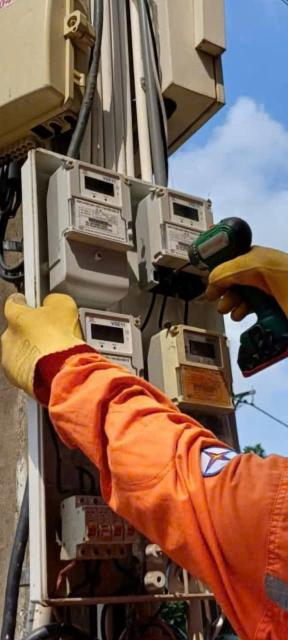gloves: (3, 267, 106, 412), (189, 211, 288, 341)
